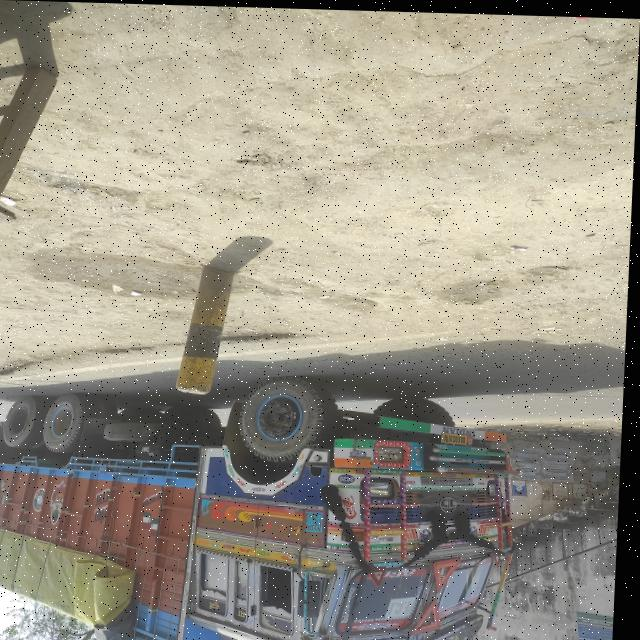plate: (444, 429, 478, 444)
